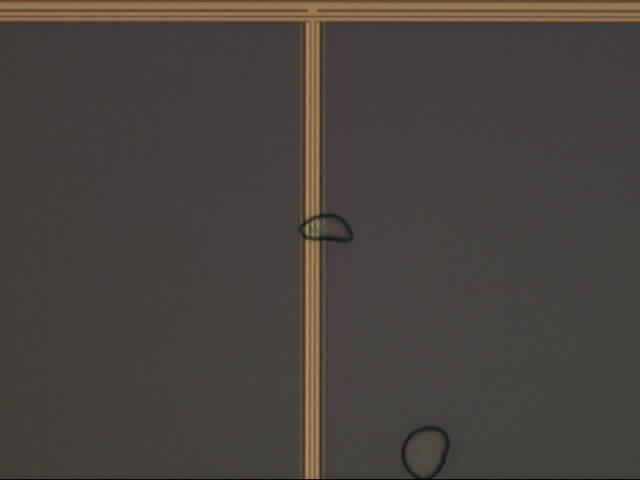PIQ PARTICLE: (297, 212, 452, 480)
